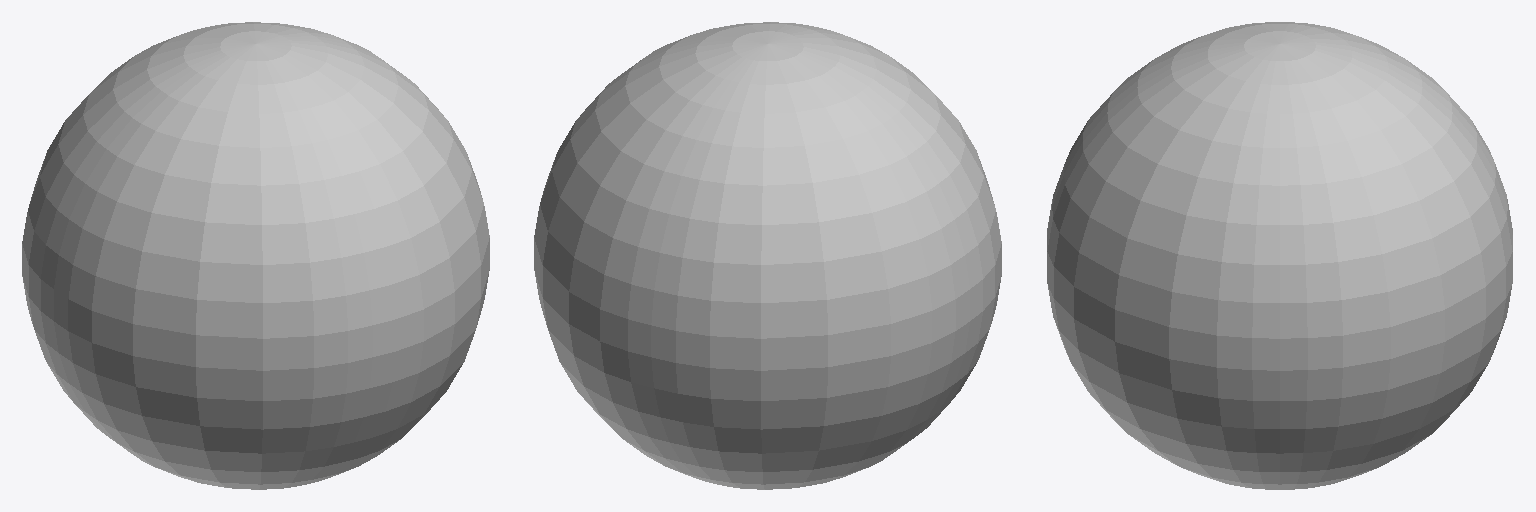
File: lua.obj
3 views of the same model, side by side, from view 1: azimuth 30°, elevation 25°; view 2: azimuth 150°, elevation 25°; view 3: azimuth 270°, elevation 25° (orthographic).
Parts seen in each view (by area): view 1: SurfSphere.001; view 2: SurfSphere.001; view 3: SurfSphere.001.
Boxes of the visible parts, x1=… form: SurfSphere.001: x1=22, y1=22, x2=489, y2=489; SurfSphere.001: x1=534, y1=22, x2=1001, y2=489; SurfSphere.001: x1=1047, y1=22, x2=1512, y2=489.
Size of the model in its own units: 1.36 by 1.36 by 1.36.